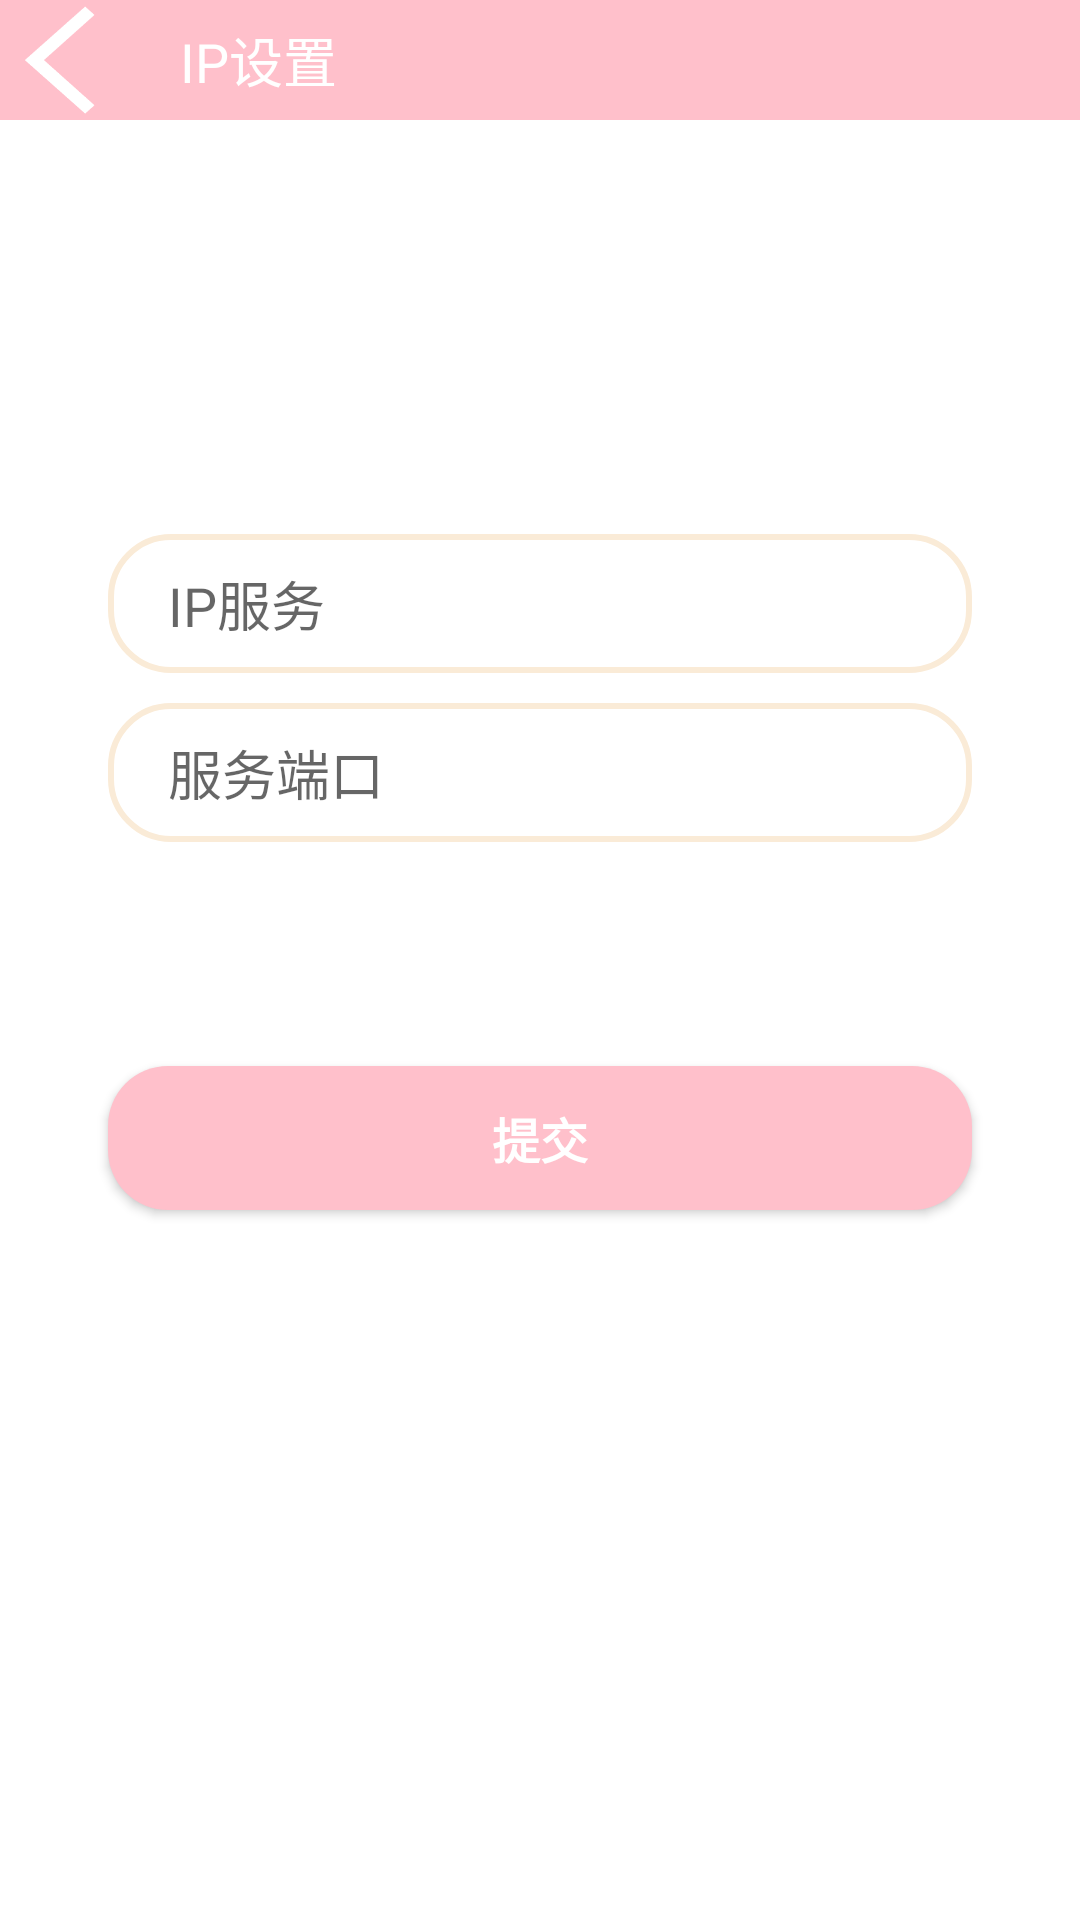

Icon bounding boxes for this 1080px x 1920px phone screenshot, format bbox(x1, y1, x2, y2):
arrow return: bbox(25, 7, 94, 113)
